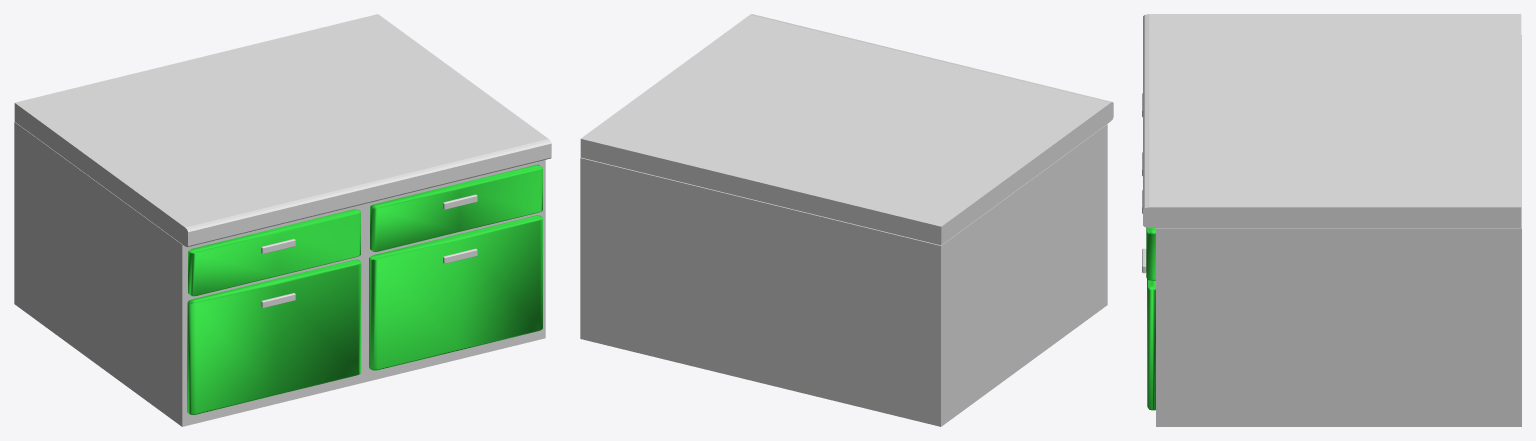
The model's file is Theke_Var2.fbx.
The picture shows the model from 3 angles, left to right: view 1: azimuth 30°, elevation 25°; view 2: azimuth 150°, elevation 25°; view 3: azimuth 270°, elevation 25°; orthographic projection. The views are drawn at different scales.
Visible parts, largest first — view 1: Cube.016; view 2: Cube.016; view 3: Cube.016.
Part boxes in pixels (x1,y1,x2,y2): Cube.016: [14, 14, 551, 426]; Cube.016: [580, 14, 1113, 426]; Cube.016: [1142, 14, 1521, 426].
Bounding box in the file's own units: 250 × 132 × 207.
